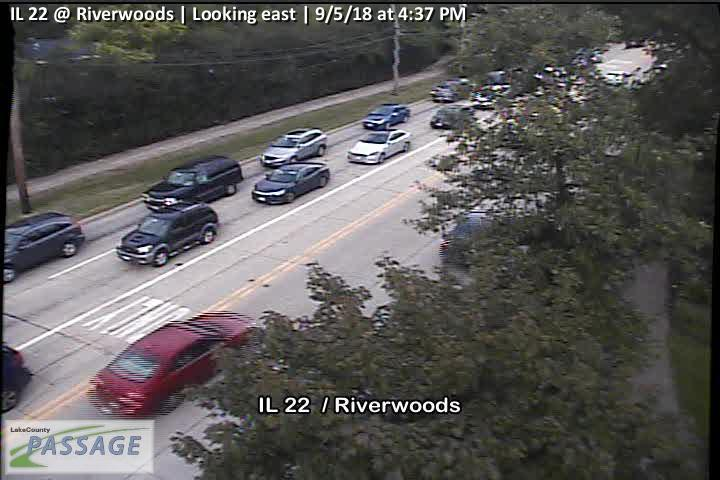SUV: (114, 200, 220, 268), (3, 212, 87, 282), (140, 154, 244, 210), (259, 127, 329, 167)
Sedan: (87, 310, 263, 420), (251, 161, 331, 204), (347, 128, 411, 164), (362, 102, 411, 129), (430, 104, 476, 129)
